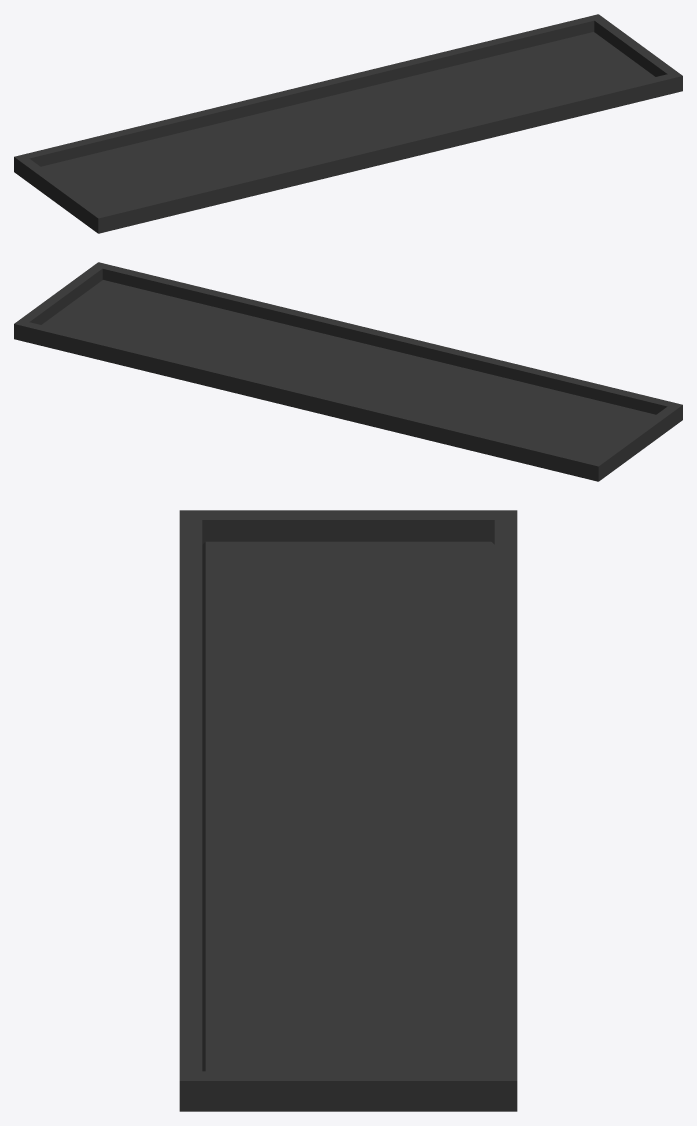
The model's file is ENV_RoofStripMat.fbx.
3 renders of one model, top to bottom at view 1: azimuth 30°, elevation 25°; view 2: azimuth 150°, elevation 25°; view 3: azimuth 270°, elevation 25°, orthographic. The views are drawn at different scales.
Visible parts, largest first — view 1: ENV_RoofStripMat; view 2: ENV_RoofStripMat; view 3: ENV_RoofStripMat.
Boxes of the visible parts, x1=… form: ENV_RoofStripMat: x1=14, y1=14, x2=682, y2=233; ENV_RoofStripMat: x1=14, y1=262, x2=682, y2=481; ENV_RoofStripMat: x1=179, y1=510, x2=517, y2=1111.
Size of the model in its own units: 1.2 by 0.03 by 0.3.
Materials: 1 (1 with a texture image).
